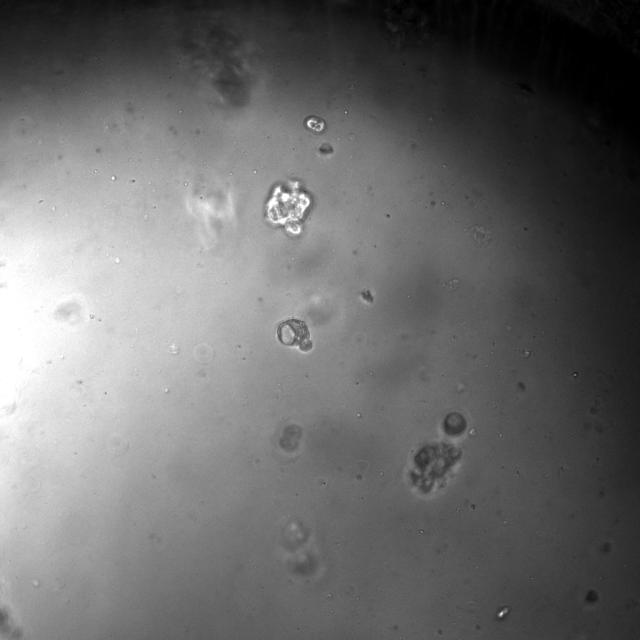organoid: (181, 20, 252, 106), (405, 439, 462, 498), (264, 180, 312, 237), (278, 317, 312, 350), (279, 423, 302, 453), (443, 411, 466, 435), (303, 115, 327, 134), (359, 288, 376, 305), (496, 605, 511, 621), (584, 589, 599, 604), (318, 142, 333, 155)
